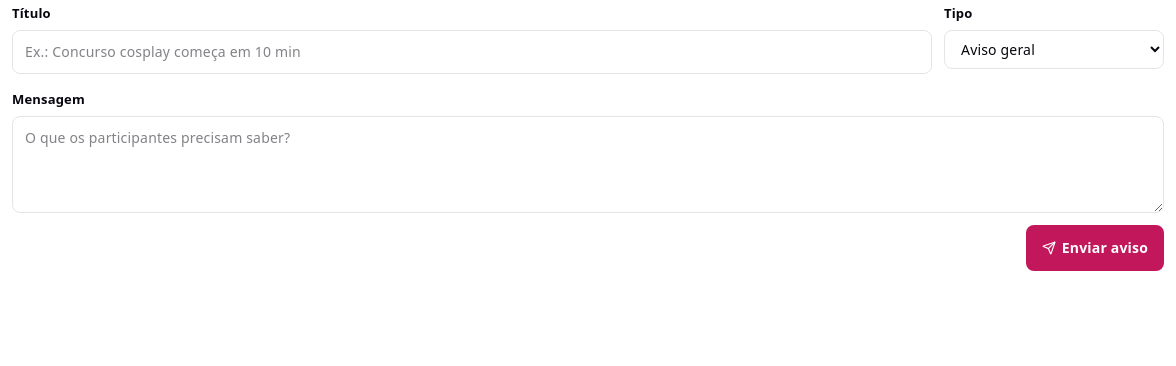
Scenario: NotificationForm › mostra a mensagem de erro da API e mantém o texto digitado
The image size is (1176, 366).
Type "Aviso" into the field labelled "Título" at (472, 52), box [12,30,932,74]
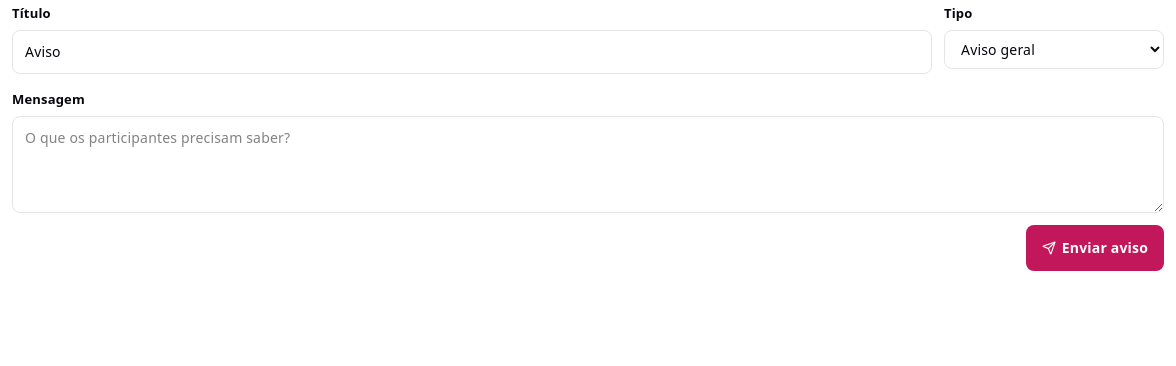
Type "Texto" into the text box labelled "Mensagem" at (588, 164), box [12,116,1164,213]
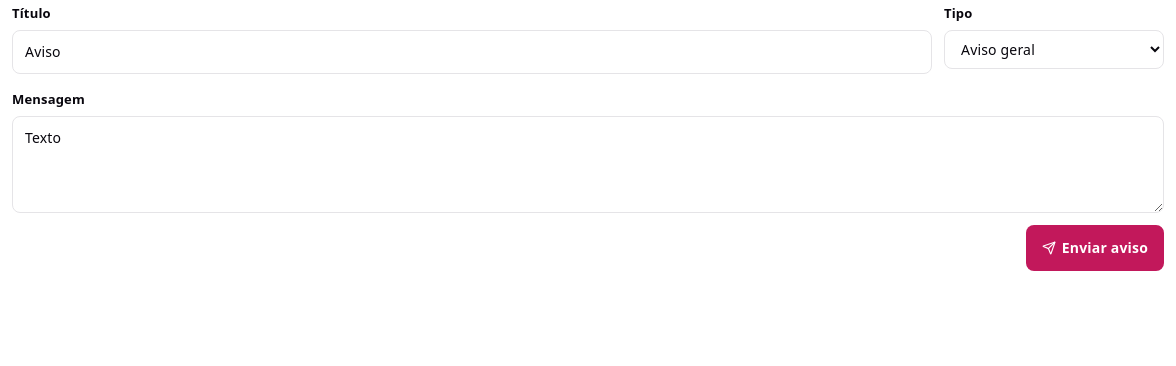
Click the button "Enviar aviso" at (1095, 248), box [1026,225,1164,271]
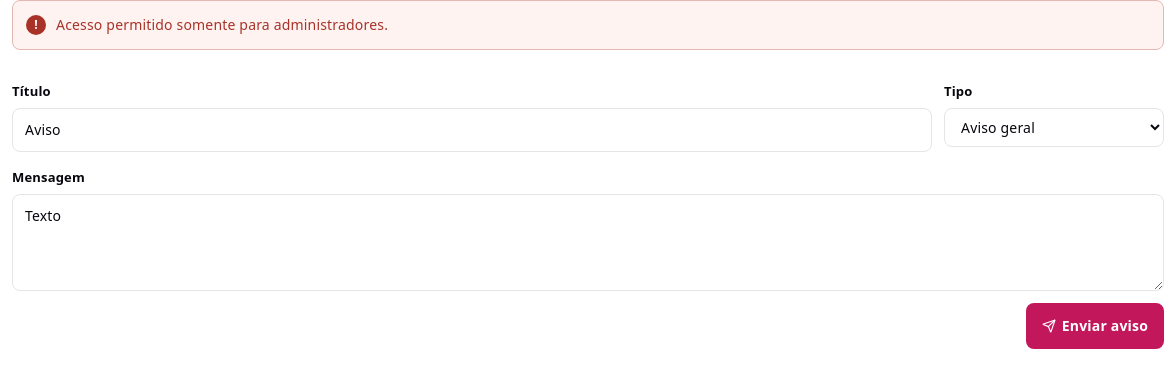
Expected: the message shows "Acesso permitido somente para administradores.", [56,15,388,34]
